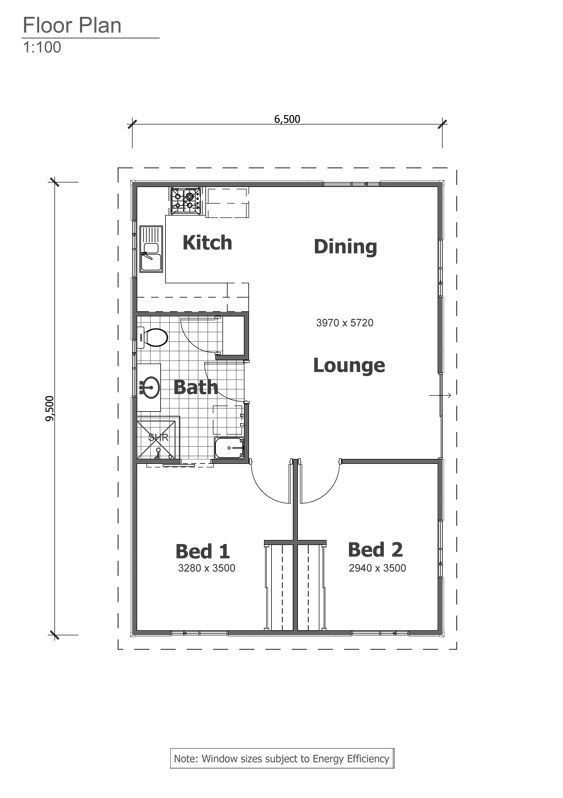door: (248, 458, 293, 508), (298, 460, 337, 507), (203, 361, 242, 400), (181, 316, 223, 352)
room: (249, 186, 438, 459), (142, 467, 292, 621), (304, 466, 440, 628), (141, 313, 242, 456), (139, 186, 251, 307)
wall: (128, 397, 138, 633), (131, 178, 323, 187), (136, 308, 248, 321), (228, 630, 352, 639), (433, 298, 447, 374), (381, 178, 447, 193), (344, 455, 443, 465), (432, 463, 448, 524), (432, 185, 446, 243), (434, 579, 447, 637), (240, 311, 252, 361), (241, 402, 251, 460), (140, 457, 181, 469), (135, 624, 171, 637), (130, 280, 136, 337), (213, 455, 242, 466)
window: (329, 174, 382, 191), (126, 218, 141, 278), (435, 248, 449, 291), (435, 527, 447, 577)
